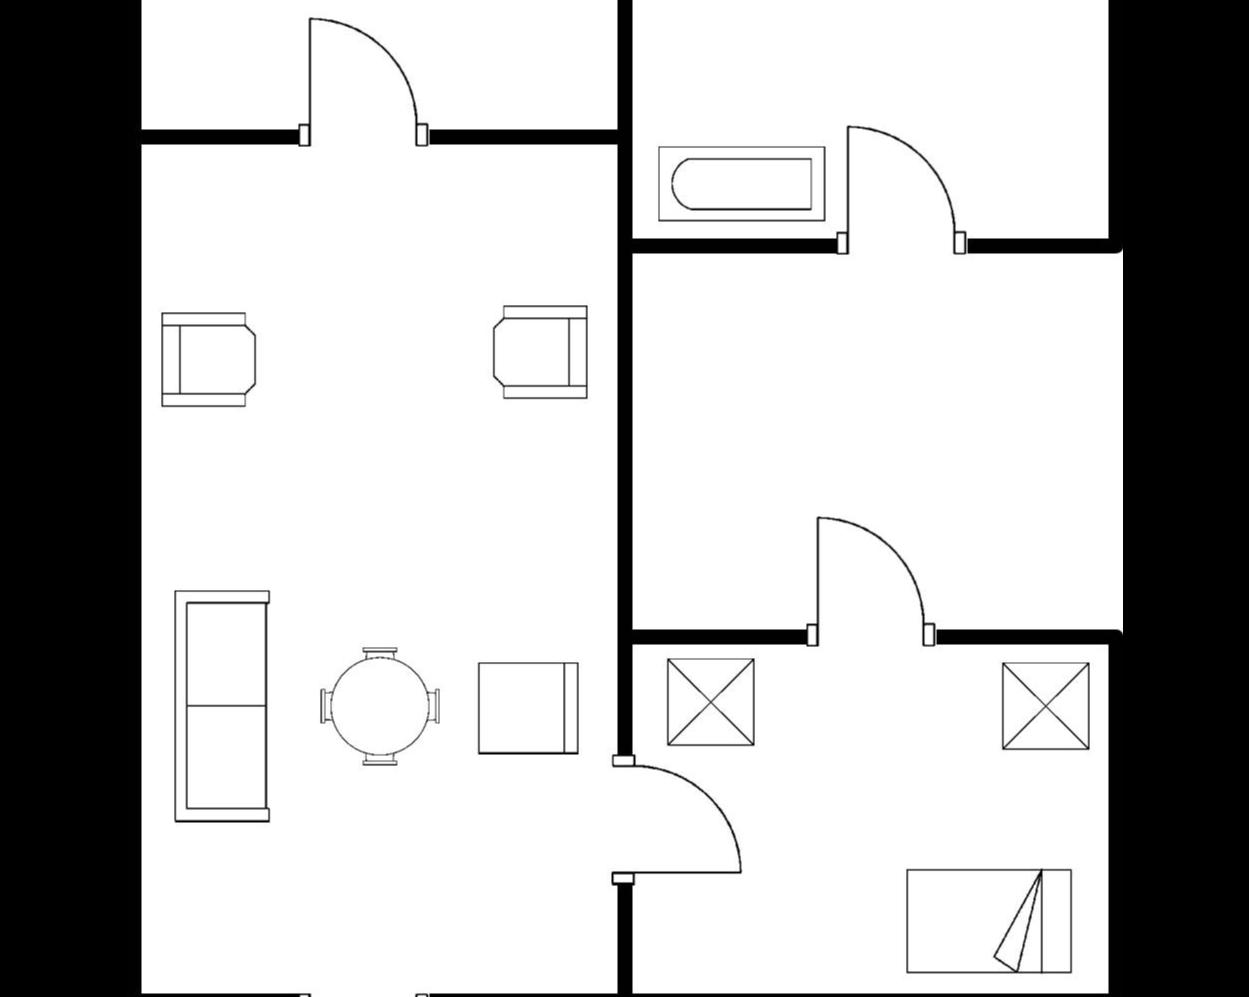bed: (894, 862, 1078, 980), (990, 659, 1093, 757)
round_table: (311, 638, 445, 779)
sofa: (166, 584, 276, 833)
tub: (652, 139, 832, 228)
